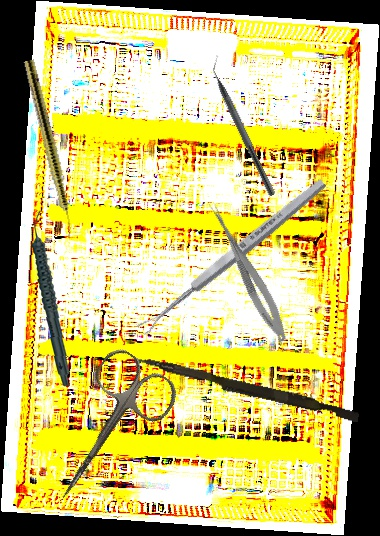Chopper: (203, 54, 285, 197)
Handpiece: (21, 59, 79, 239), (23, 209, 79, 388)
Iris Scissors: (27, 343, 184, 520)
Micro Scissor: (200, 199, 295, 346)
Pusher: (134, 355, 361, 423)
Surgical Spoon: (135, 176, 329, 337)
